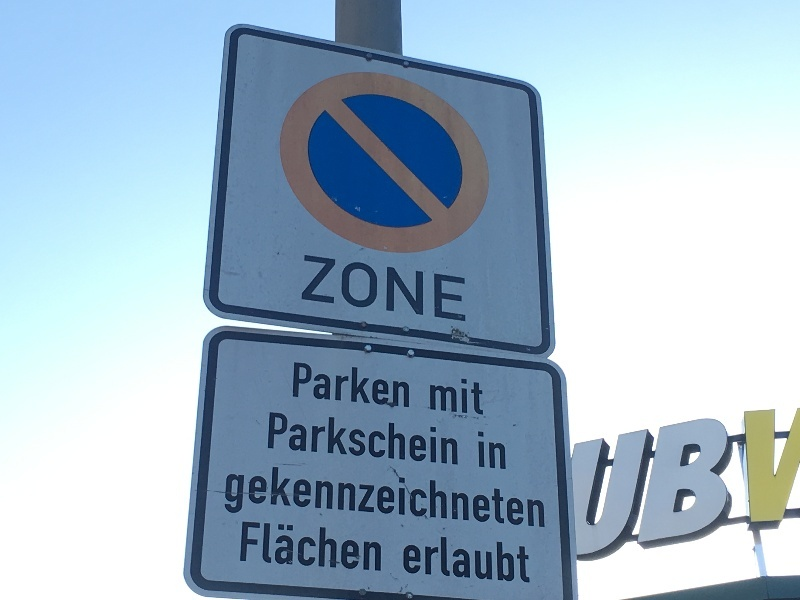text: (577, 397, 592, 570), (593, 397, 608, 570), (609, 397, 624, 570), (625, 397, 640, 570), (641, 397, 656, 570), (657, 397, 672, 570), (673, 397, 688, 570), (689, 397, 704, 570), (705, 397, 720, 570), (721, 397, 736, 570), (737, 397, 752, 570), (753, 397, 768, 570), (769, 397, 784, 570), (785, 397, 800, 570), (305, 248, 320, 325), (321, 248, 336, 325), (337, 248, 352, 325), (353, 248, 368, 325), (369, 248, 384, 325), (385, 248, 400, 325), (401, 248, 416, 325), (417, 248, 432, 325), (433, 248, 448, 325), (449, 248, 464, 325), (225, 462, 240, 533), (241, 462, 256, 533), (257, 462, 272, 533), (273, 462, 288, 533), (289, 462, 304, 533), (305, 462, 320, 533), (321, 462, 336, 533), (337, 462, 352, 533), (353, 462, 368, 533), (369, 462, 384, 533), (385, 462, 400, 533), (401, 462, 416, 533), (417, 462, 432, 533), (433, 462, 448, 533), (449, 462, 464, 533), (465, 462, 480, 533), (481, 462, 496, 533), (497, 462, 512, 533), (513, 462, 528, 533), (529, 462, 544, 533), (241, 518, 256, 580), (257, 518, 272, 580), (273, 518, 288, 580), (289, 518, 304, 580), (305, 518, 320, 580), (321, 518, 336, 580), (337, 518, 352, 580), (353, 518, 368, 580), (369, 518, 384, 580), (273, 408, 288, 469), (289, 408, 304, 469), (305, 408, 320, 469), (321, 408, 336, 469), (337, 408, 352, 469), (353, 408, 368, 469), (369, 408, 384, 469), (385, 408, 400, 469), (401, 408, 416, 469), (417, 408, 432, 469), (433, 408, 448, 469), (401, 529, 416, 588), (417, 529, 432, 588), (433, 529, 448, 588), (449, 529, 464, 588), (465, 529, 480, 588), (481, 529, 496, 588), (497, 529, 512, 588), (513, 529, 528, 588), (571, 397, 576, 570), (305, 359, 320, 411), (321, 359, 336, 411), (337, 359, 352, 411), (353, 359, 368, 411), (369, 359, 384, 411), (385, 359, 400, 411), (433, 372, 448, 421), (449, 372, 464, 421), (465, 372, 480, 421), (449, 408, 461, 469), (291, 359, 304, 411), (481, 430, 496, 474), (401, 359, 413, 411), (497, 430, 510, 474), (465, 248, 472, 325), (265, 408, 272, 469), (545, 462, 550, 533), (529, 529, 535, 588), (426, 372, 432, 421), (481, 372, 487, 421), (474, 430, 480, 474), (301, 248, 304, 325), (221, 462, 224, 533), (239, 518, 240, 580), (385, 518, 386, 580), (399, 529, 400, 588)
